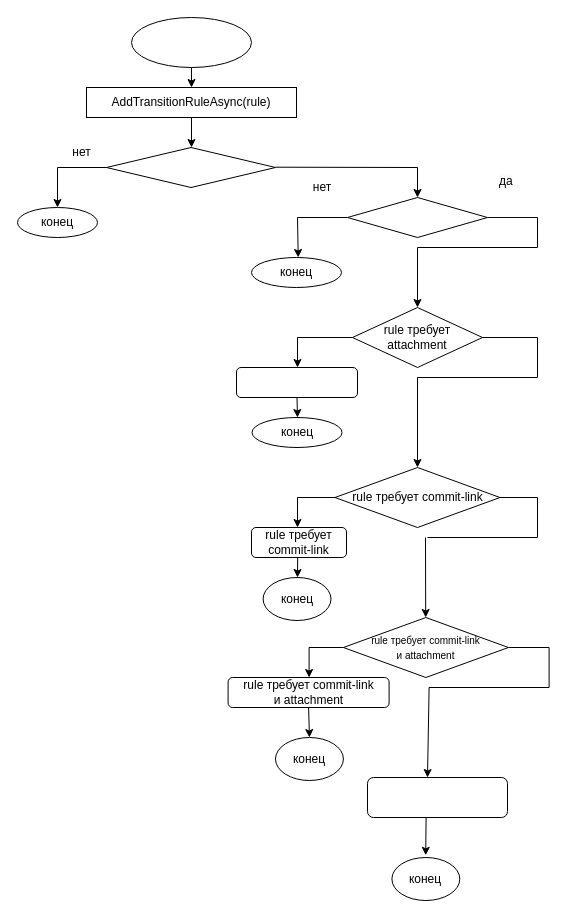
The diagram is 568 pixels wide and 918 high, and some of its shapes have lost their labels. Each missing label, with the centre of its shape:
rule==isAllowed: the point at 417,217
найдено ли правило: the point at 191,167
Начало: the point at 191,42
перемещение тикета: the point at 437,797
переход запрещен, требуется файл: the point at 297,382
